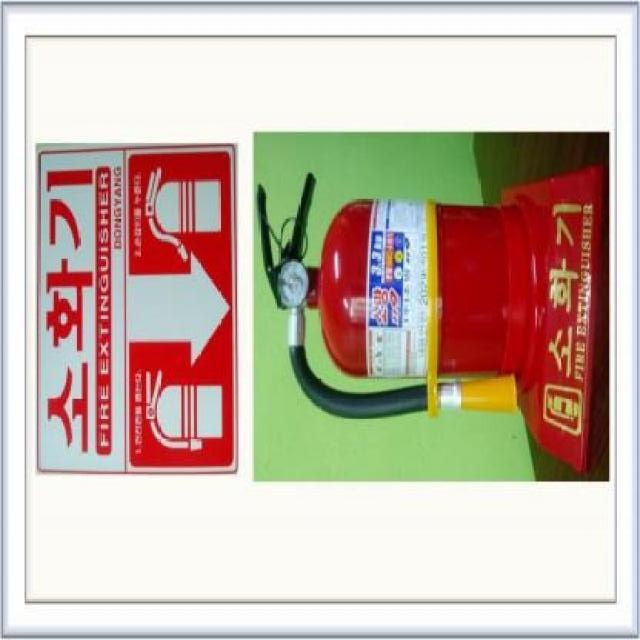fire extinguisher: (256, 170, 530, 422)
